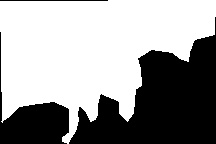Fire: (66, 1, 136, 116), (135, 1, 191, 60)
